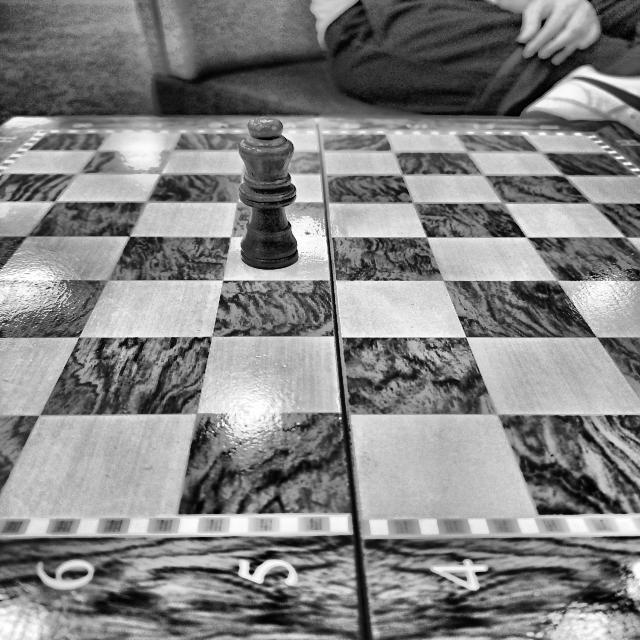black-queen: (238, 117, 299, 270)
